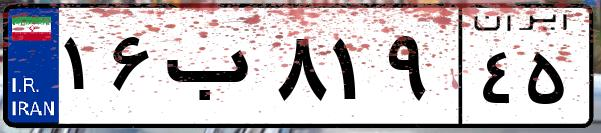1: (330, 28, 385, 110), (57, 26, 110, 100)
4: (475, 38, 525, 113)
5: (525, 38, 570, 115)
6: (110, 28, 158, 98)
8: (270, 28, 330, 110)
9: (385, 28, 445, 110)
ب: (158, 20, 270, 120)
